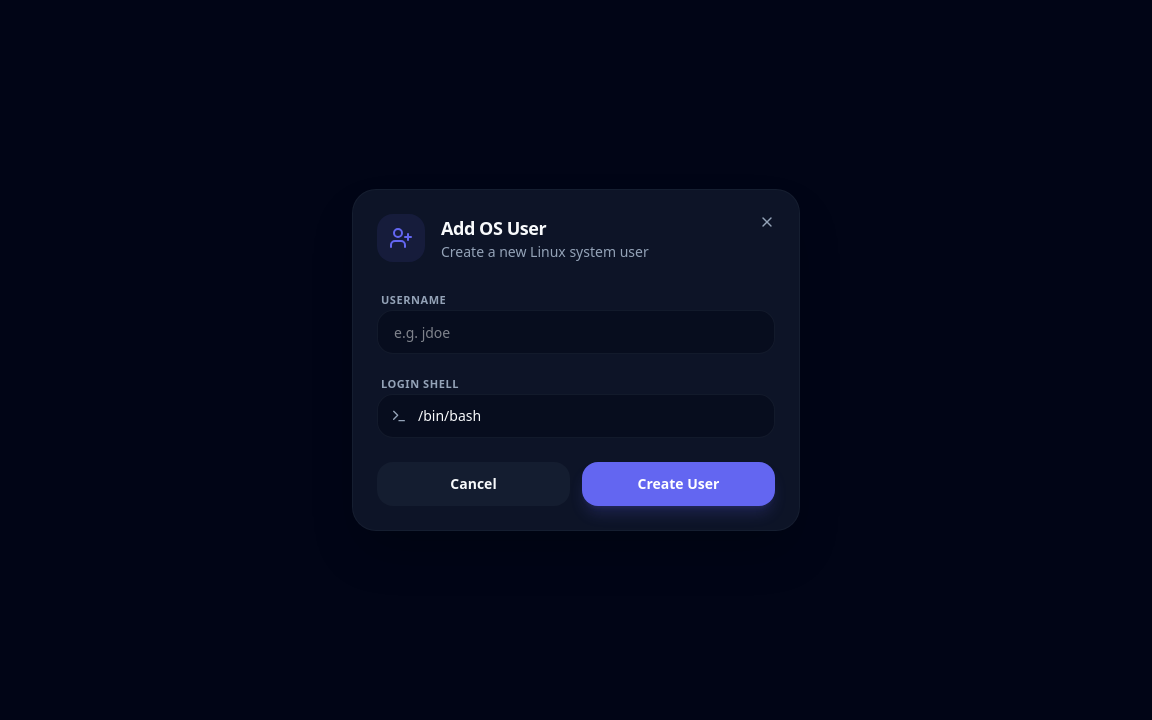
AddUserModal › handles submission error
This screenshot has width=1152, height=720.
In the field with placeholder "e.g. jdoe": (576, 332) [377,310,775,354], type "existinguser"
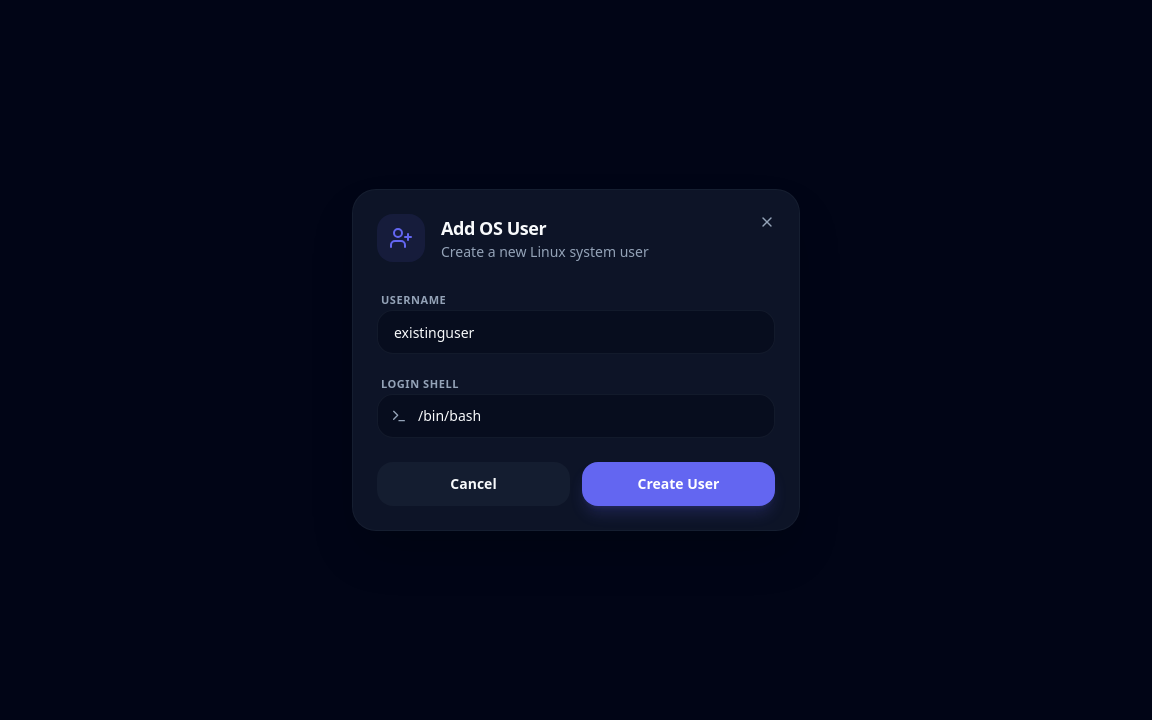
Click the button "Create User": (678, 484) [582,462,775,506]
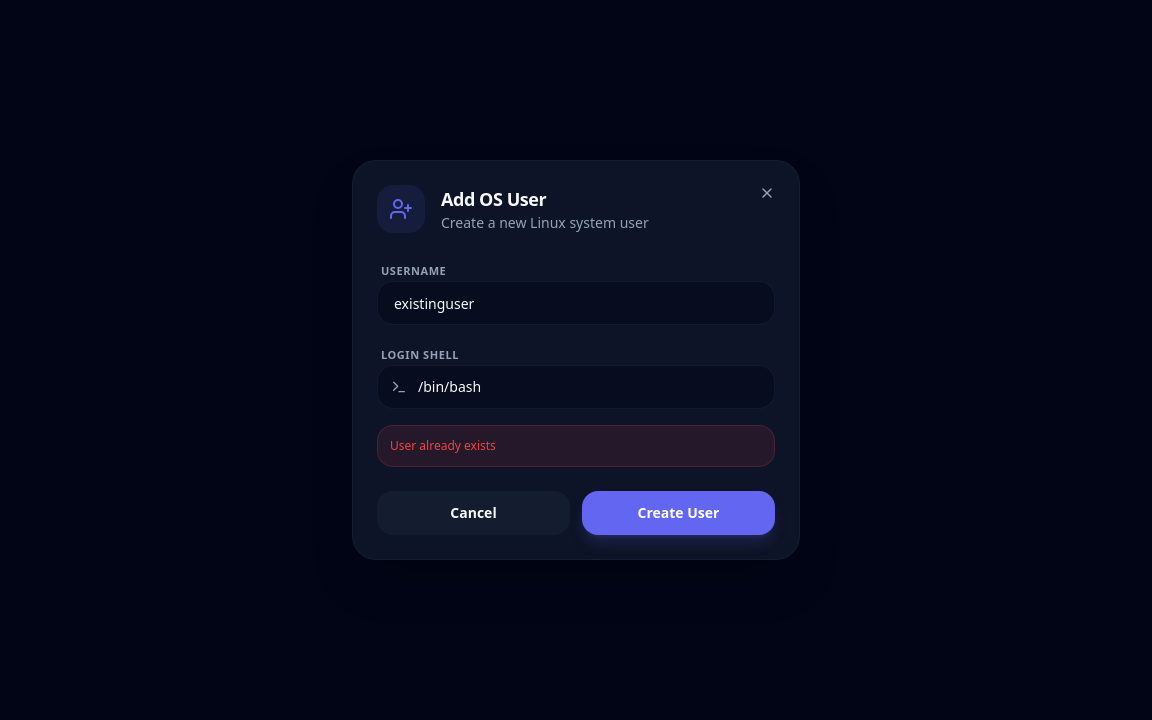
Expected: the text "User already exists" is shown, [377,425,775,467]
